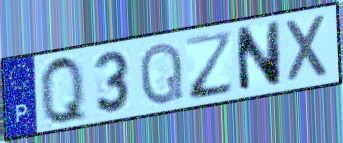3: (91, 48, 133, 116)
N: (233, 18, 283, 96)
Q: (37, 53, 90, 127), (138, 39, 186, 108)
X: (283, 11, 332, 86)
Z: (183, 27, 236, 102)
